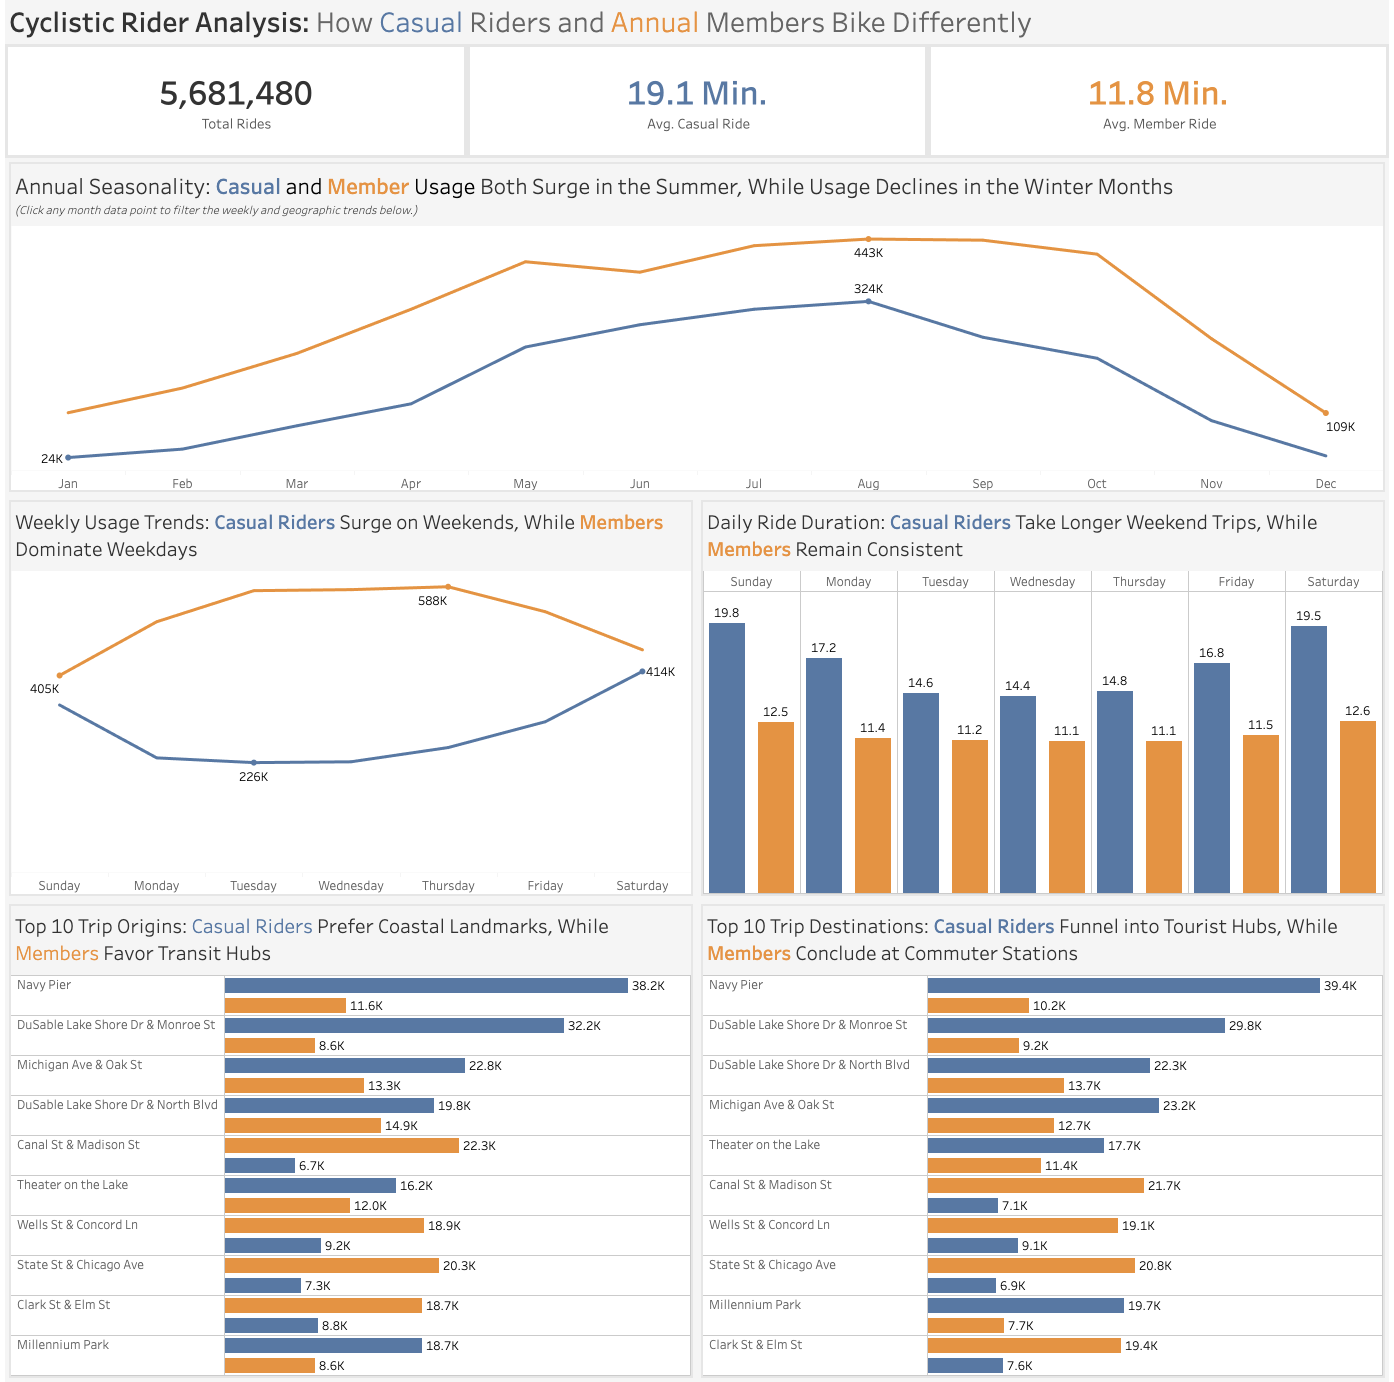

Layout of this report page (visuals, bound fields, positions):
{"tool":"tableau","page":{"name":"Cyclistic_Rider_Analysis","canvas":[1400,1400],"ordinal":0},"visuals":[{"type":"title","box":[8,8,1384,46]},{"type":"worksheet","title":"KPI_Total_Rides","mark":"Automatic","box":[8,54,462,114]},{"type":"worksheet","title":"KPI_Avg_Casual","mark":"Automatic","box":[470,54,461,114]},{"type":"worksheet","title":"KPI_Avg_Member","mark":"Automatic","box":[931,54,461,114]},{"type":"worksheet","title":"cyclistic_seasonal_trends","mark":"Line","rows":["total_rides"],"cols":["month"],"box":[8,168,1384,338]},{"type":"worksheet","title":"cyclistic_total_rides_by_day","mark":"Line","rows":["total_rides"],"cols":["Calculation_0014933855031296"],"box":[8,506,692,404]},{"type":"worksheet","title":"cyclistic_avg_ride_length_by_day","mark":"Automatic","rows":["average_ride_length_minutes"],"cols":["day_of_week","member_casual"],"box":[700,506,692,404]},{"type":"worksheet","title":"cyclistic_top_10_start_stations","mark":"Automatic","rows":["start_station_name","member_casual"],"cols":["total_rides"],"box":[8,910,692,482]},{"type":"worksheet","title":"cyclistic_top_10_end_stations (2)","mark":"Automatic","rows":["end_station_name","member_casual"],"cols":["total_rides"],"box":[700,910,692,482]}]}

Visuals, with their boxes in screenshot pixels (x1, y1, x2, y2), scaled from the page's 1400x1400 canvas onto the 1394x1382 screenshot:
title: bbox(8, 8, 1386, 53)
"KPI_Total_Rides" worksheet: bbox(8, 53, 468, 166)
"KPI_Avg_Casual" worksheet: bbox(468, 53, 927, 166)
"KPI_Avg_Member" worksheet: bbox(927, 53, 1386, 166)
"cyclistic_seasonal_trends" worksheet (Line marks): bbox(8, 166, 1386, 499)
"cyclistic_total_rides_by_day" worksheet (Line marks): bbox(8, 499, 697, 898)
"cyclistic_avg_ride_length_by_day" worksheet: bbox(697, 499, 1386, 898)
"cyclistic_top_10_start_stations" worksheet: bbox(8, 898, 697, 1374)
"cyclistic_top_10_end_stations (2)" worksheet: bbox(697, 898, 1386, 1374)
